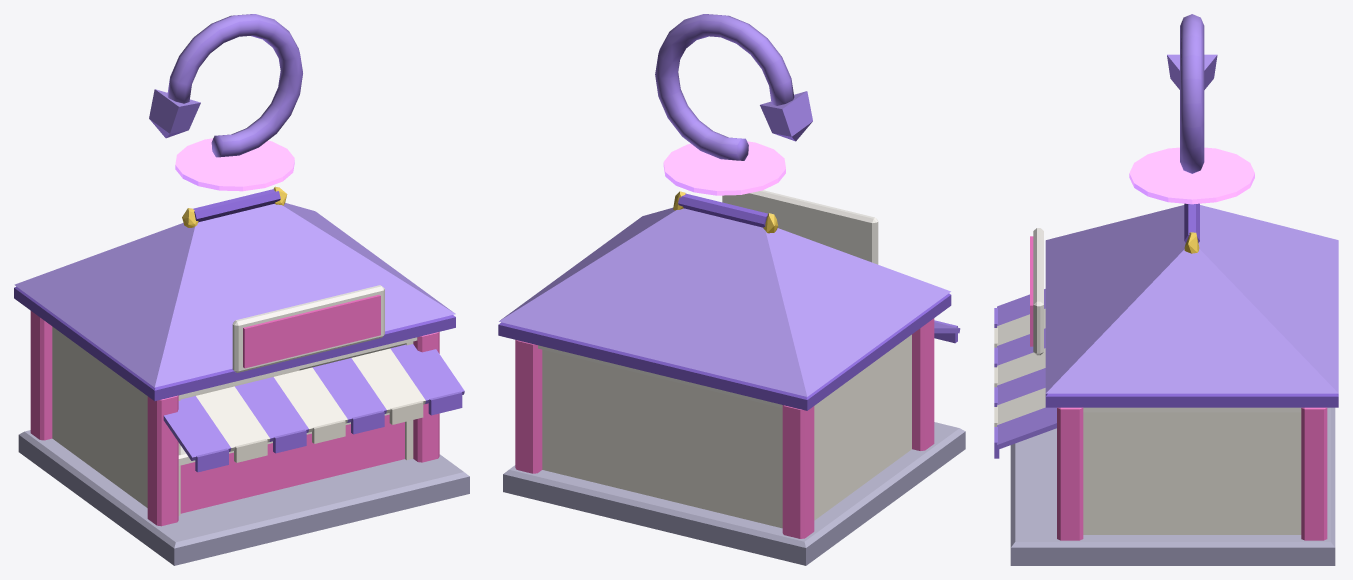
File: RebirthHut.glb
3 renders of one model, left to right at view 1: azimuth 30°, elevation 25°; view 2: azimuth 150°, elevation 25°; view 3: azimuth 270°, elevation 25°, orthographic. The views are drawn at different scales.
Visible parts, largest first — view 1: RebirthHut, RebirthHut_Glow_acc5; view 2: RebirthHut, RebirthHut_Glow_acc5; view 3: RebirthHut, RebirthHut_Glow_acc5.
Boxes of the visible parts, x1,y1,x2,y2 form: RebirthHut: (14,14,469,565); RebirthHut_Glow_acc5: (175,138,294,191); RebirthHut: (498,14,965,565); RebirthHut_Glow_acc5: (663,141,785,195); RebirthHut: (994,14,1338,565); RebirthHut_Glow_acc5: (1129,147,1254,204).
Size of the model in its own units: 20.8 by 29.72 by 19.75.
Materials: 2 (1 with a texture image).
